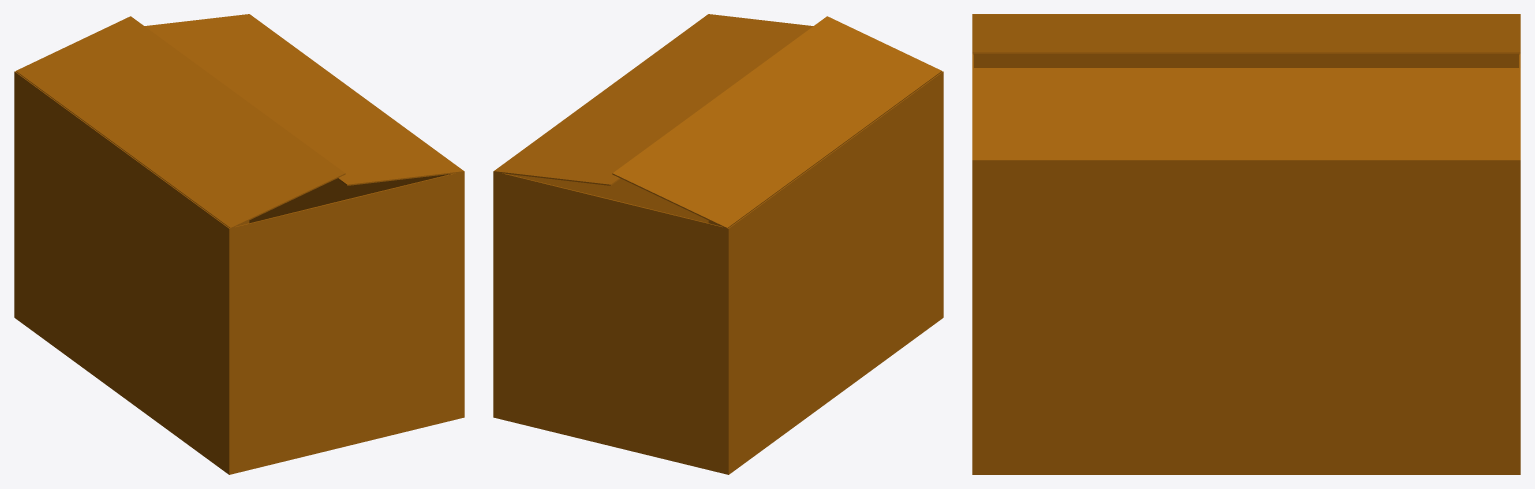
The model's file is pudlo 2.fbx.
3 views of the same model, side by side, from view 1: azimuth 30°, elevation 25°; view 2: azimuth 150°, elevation 25°; view 3: azimuth 270°, elevation 25° (orthographic). The views are drawn at different scales.
Visible parts, largest first — view 1: Cube; view 2: Cube; view 3: Cube.
Part boxes in pixels (bbox=[...]): Cube: bbox=[14, 14, 464, 474]; Cube: bbox=[493, 14, 943, 474]; Cube: bbox=[972, 14, 1520, 474].
Size of the model in its own units: 200 by 222 by 316.
